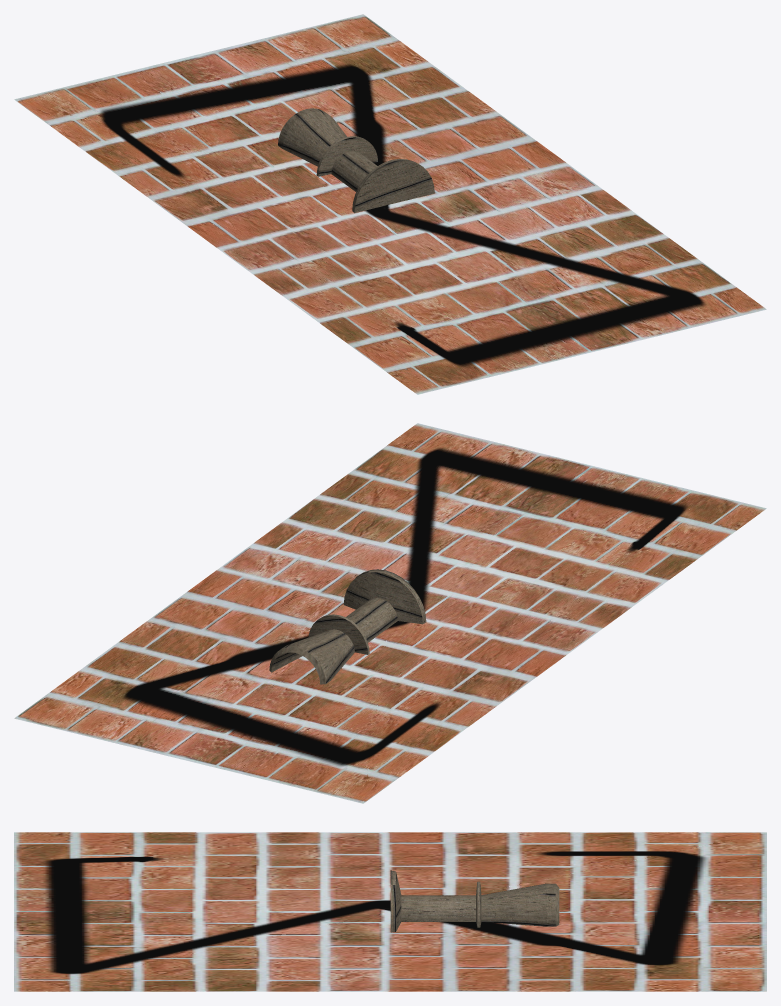
The model's file is WoodenCup.dae.
3 renders of one model, top to bottom at view 1: azimuth 30°, elevation 25°; view 2: azimuth 150°, elevation 25°; view 3: azimuth 270°, elevation 25°, orthographic. The views are drawn at different scales.
Visible parts, largest first — view 1: Plane, Cylinder; view 2: Plane, Cylinder; view 3: Plane, Cylinder.
Part boxes in pixels (<box>): Plane: <box>14,14,766,394</box>; Cylinder: <box>278,108,434,212</box>; Plane: <box>14,423,766,803</box>; Cylinder: <box>269,569,426,684</box>; Plane: <box>14,832,766,991</box>; Cylinder: <box>390,870,559,932</box>.
Bounding box in the file's own units: 20 × 40 × 4.61.
2 materials, 2 textured.
